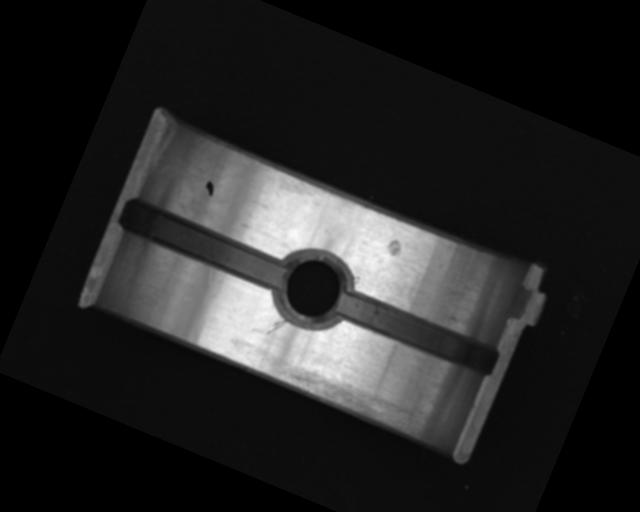blot: (201, 178, 218, 197)
bruise: (383, 236, 406, 259)
gap: (114, 194, 294, 296), (334, 285, 503, 380)
hole: (266, 241, 361, 339)
nick: (266, 313, 288, 341)
scratch: (272, 355, 426, 441)
